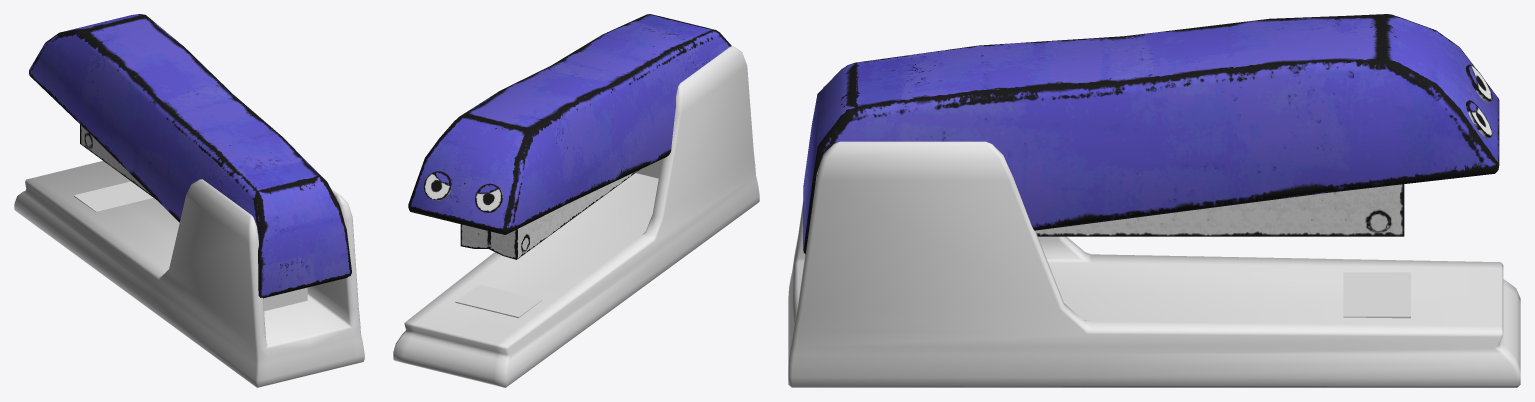
The model's file is NewStapler_Idle.fbx.
The picture shows the model from 3 angles, left to right: view 1: azimuth 30°, elevation 25°; view 2: azimuth 150°, elevation 25°; view 3: azimuth 270°, elevation 25°; orthographic projection. The views are drawn at different scales.
Visible parts, largest first — view 1: Stapler_Top_uv, Stapler_Bottom_uv; view 2: Stapler_Bottom_uv, Stapler_Top_uv; view 3: Stapler_Bottom_uv, Stapler_Top_uv.
Boxes of the visible parts, bbox=[...] form: Stapler_Top_uv: bbox=[29, 14, 351, 298]; Stapler_Bottom_uv: bbox=[14, 161, 364, 387]; Stapler_Bottom_uv: bbox=[393, 46, 759, 387]; Stapler_Top_uv: bbox=[408, 14, 731, 259]; Stapler_Bottom_uv: bbox=[788, 86, 1520, 387]; Stapler_Top_uv: bbox=[803, 14, 1499, 254].
Size of the model in its own units: 63.77 by 115 by 245.
